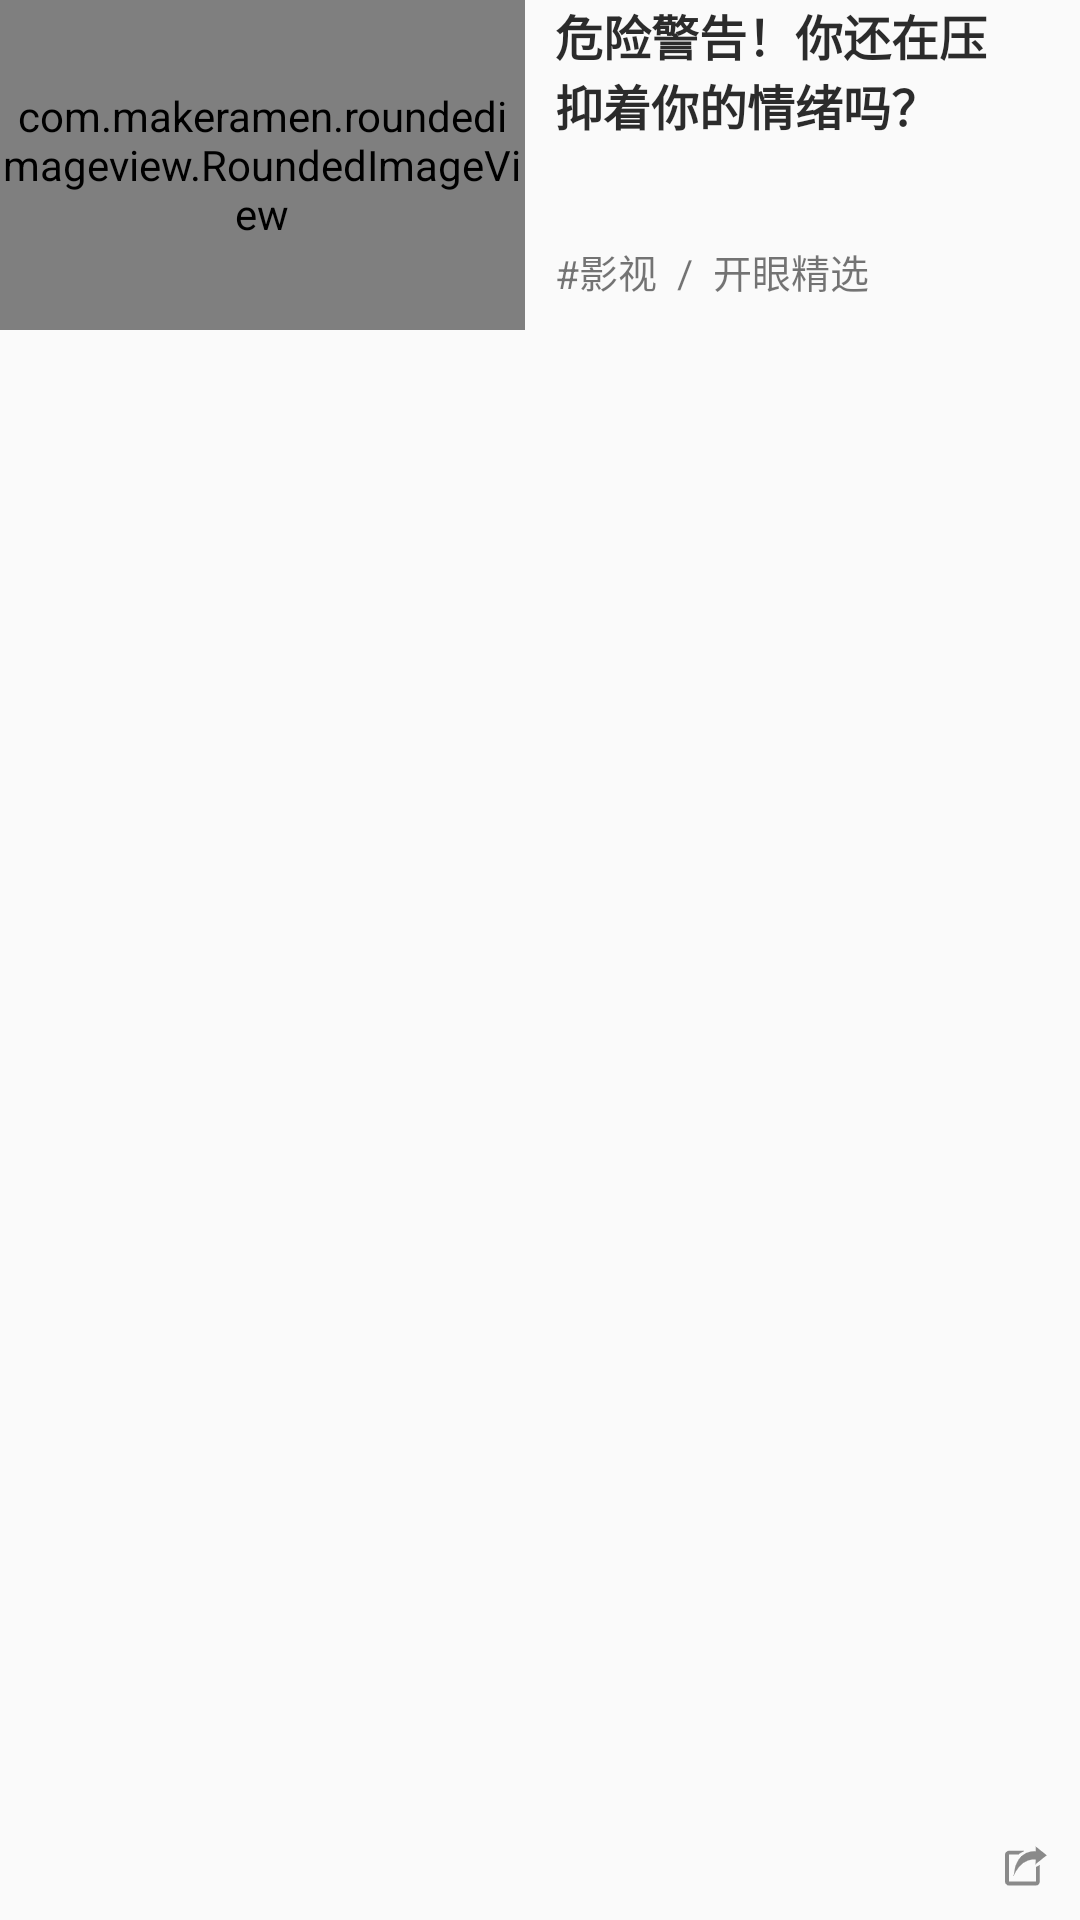

Where icons sit on this 1080×1920 app screen, as (x1, y1, x2, y2):
share: (1005, 1846, 1047, 1886)
